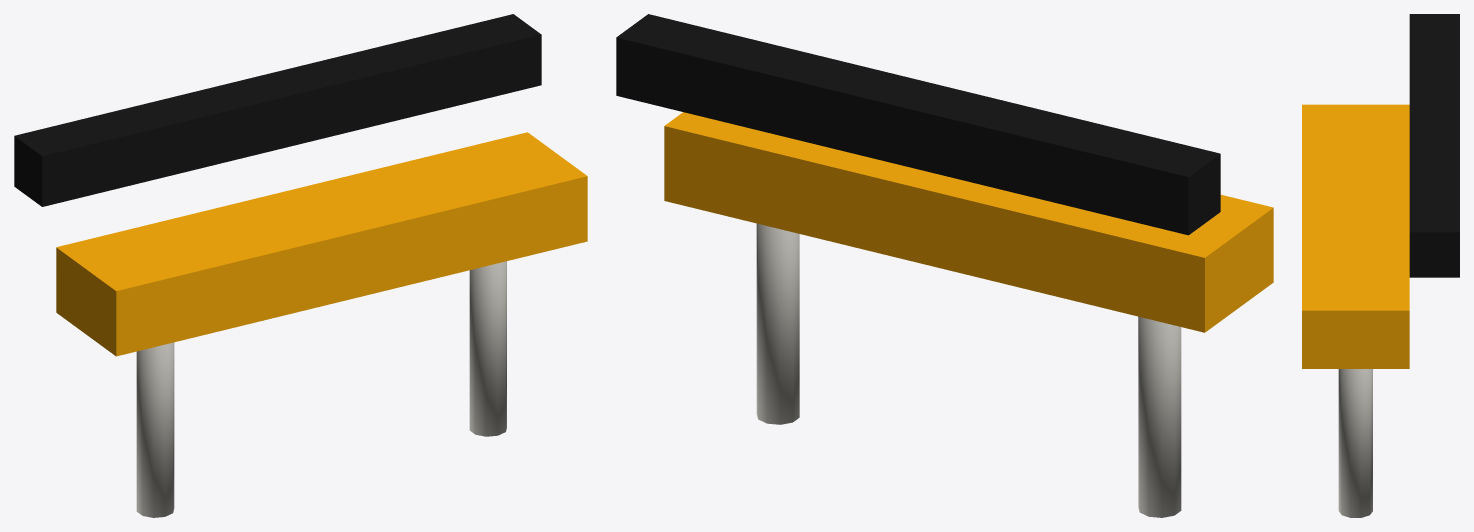
File: prop_bench.glb
3 renders of one model, left to right at view 1: azimuth 30°, elevation 25°; view 2: azimuth 150°, elevation 25°; view 3: azimuth 270°, elevation 25°, orthographic. The views are drawn at different scales.
Visible parts, largest first — view 1: yellow bench seat, black bench back, bench left foot, bench right foot; view 2: yellow bench seat, black bench back, bench left foot, bench right foot; view 3: yellow bench seat, black bench back, bench right foot.
Part boxes in pixels (bbox=[...]): yellow bench seat: bbox=[56, 132, 587, 356]; black bench back: bbox=[14, 14, 541, 206]; bench left foot: bbox=[136, 342, 174, 517]; bench right foot: bbox=[469, 261, 506, 436]; yellow bench seat: bbox=[664, 112, 1273, 332]; black bench back: bbox=[616, 14, 1220, 235]; bench left foot: bbox=[1138, 316, 1181, 517]; bench right foot: bbox=[756, 223, 799, 424]; yellow bench seat: bbox=[1302, 104, 1409, 368]; black bench back: bbox=[1409, 14, 1459, 277]; bench right foot: bbox=[1338, 369, 1372, 517].
Size of the model in its own units: 0.36 by 0.2425 by 0.11.
